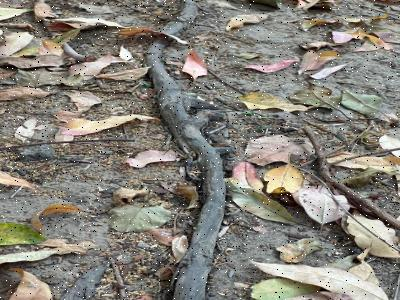Root: (145, 35, 225, 300), (161, 0, 198, 35)
